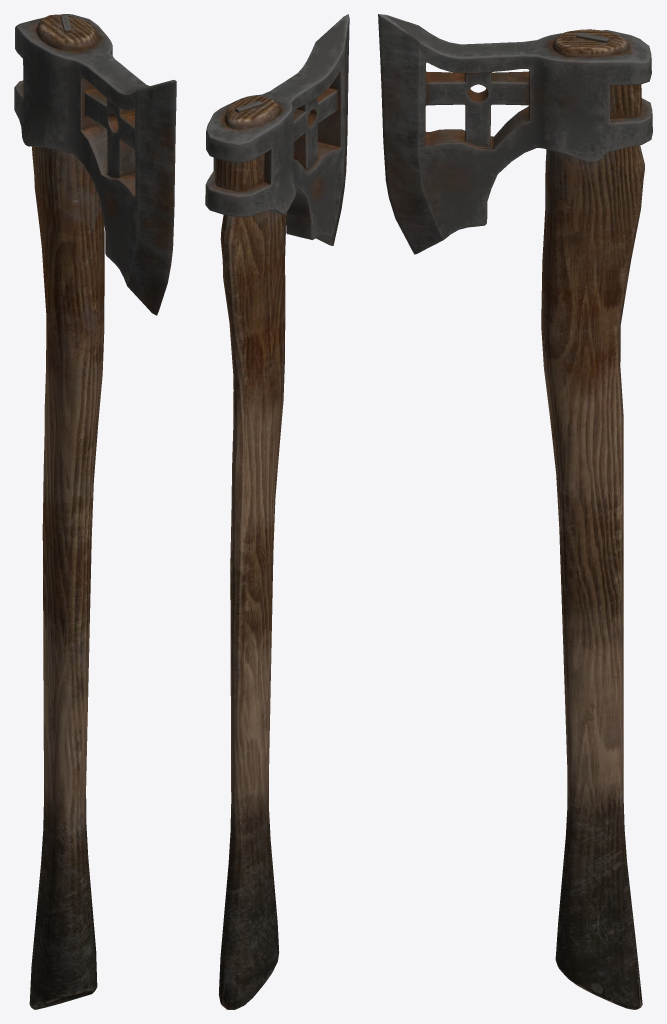
File: wooden_axe_03.glb
3 views of the same model, side by side, from view 1: azimuth 30°, elevation 25°; view 2: azimuth 150°, elevation 25°; view 3: azimuth 270°, elevation 25° (orthographic). The views are drawn at different scales.
Parts seen in each view (by area): view 1: wooden_axe_03; view 2: wooden_axe_03; view 3: wooden_axe_03.
Part boxes in pixels (bbox=[...]): wooden_axe_03: bbox=[14, 14, 176, 1009]; wooden_axe_03: bbox=[205, 14, 349, 1009]; wooden_axe_03: bbox=[378, 14, 652, 1009].
Bounding box in the file's own units: 0.0504 × 0.6318 × 0.1584.
1 material, 1 textured.
